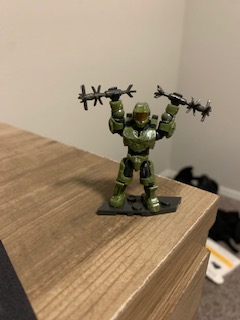chief: (104, 83, 183, 214)
spartan: (102, 81, 181, 212)
up: (104, 85, 183, 157)
